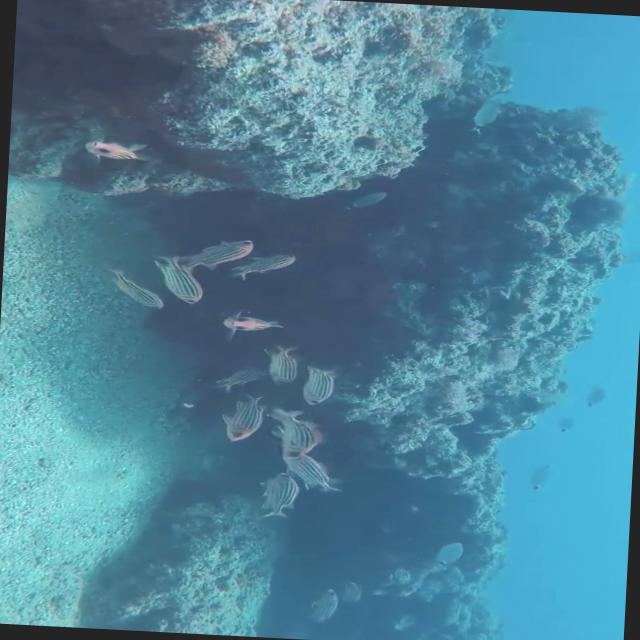Asker Baligi: (146, 255, 216, 304), (249, 335, 307, 390), (221, 392, 274, 445), (253, 465, 302, 521), (82, 134, 154, 168), (272, 408, 314, 458), (299, 360, 332, 408)
